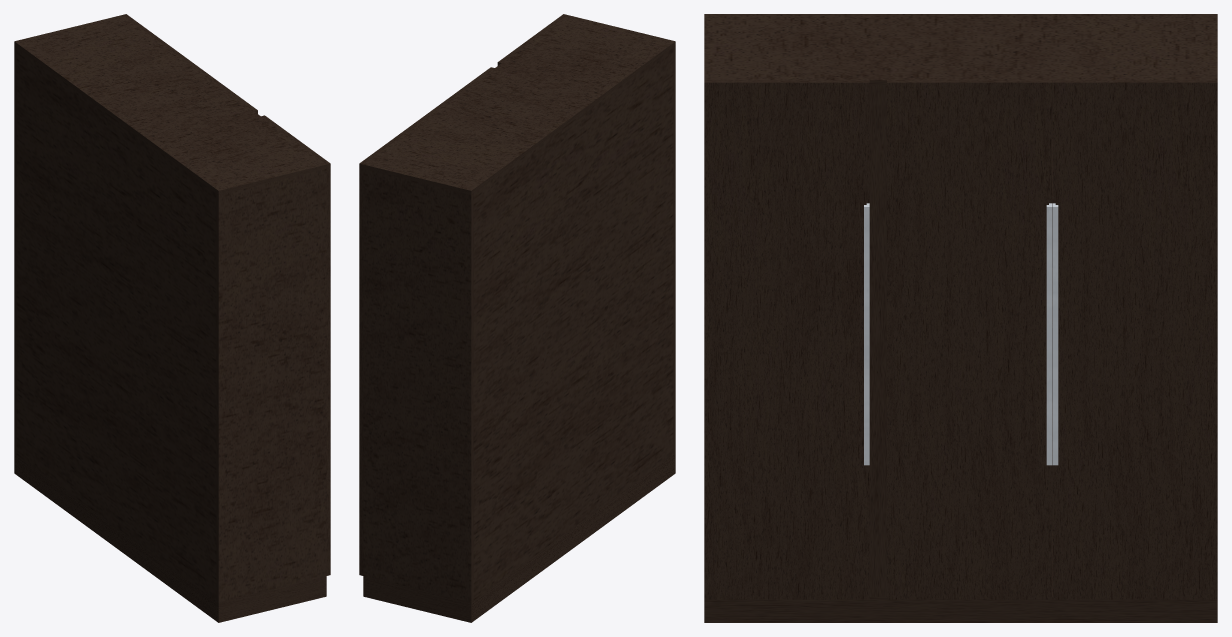
The model's file is armadio.fbx.
3 views of the same model, side by side, from view 1: azimuth 30°, elevation 25°; view 2: azimuth 150°, elevation 25°; view 3: azimuth 270°, elevation 25° (orthographic). The views are drawn at different scales.
Parts seen in each view (by area): view 1: contenitore, anta_sx; view 2: contenitore, anta_dx; view 3: anta_sx, anta_centro, anta_dx, contenitore.
Boxes of the visible parts, left/top/right/bottom form: contenitore: left=14, top=15, right=326, bottom=622; anta_sx: left=261, top=115, right=330, bottom=575; contenitore: left=363, top=15, right=675, bottom=622; anta_dx: left=359, top=115, right=428, bottom=575; anta_sx: left=704, top=80, right=869, bottom=599; anta_centro: left=887, top=80, right=1052, bottom=599; anta_dx: left=1052, top=80, right=1217, bottom=599; contenitore: left=704, top=14, right=1217, bottom=622.
Size of the model in its own units: 60 by 210 by 180.
